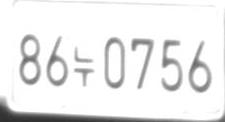0: (102, 37, 126, 88)
5: (160, 38, 183, 91)
6: (188, 40, 211, 93), (45, 35, 68, 86)
7: (130, 38, 155, 89)
8: (18, 33, 41, 85)
누: (73, 45, 95, 87)
